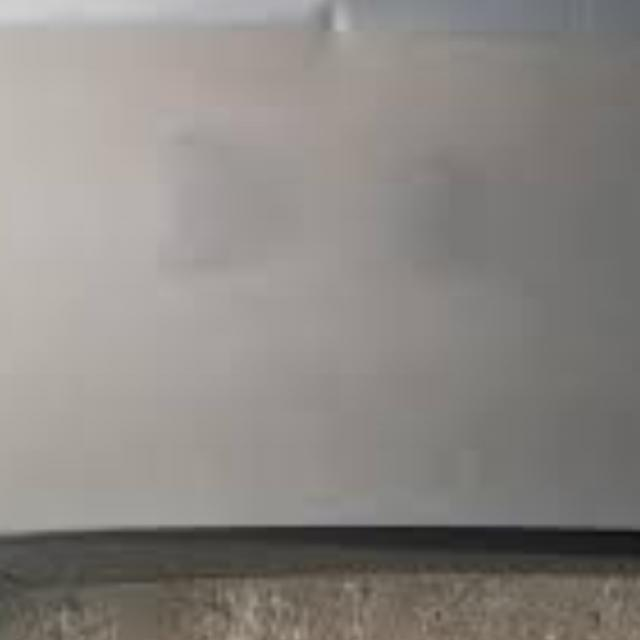dents: (142, 131, 301, 326), (390, 157, 510, 288), (284, 0, 397, 61)
